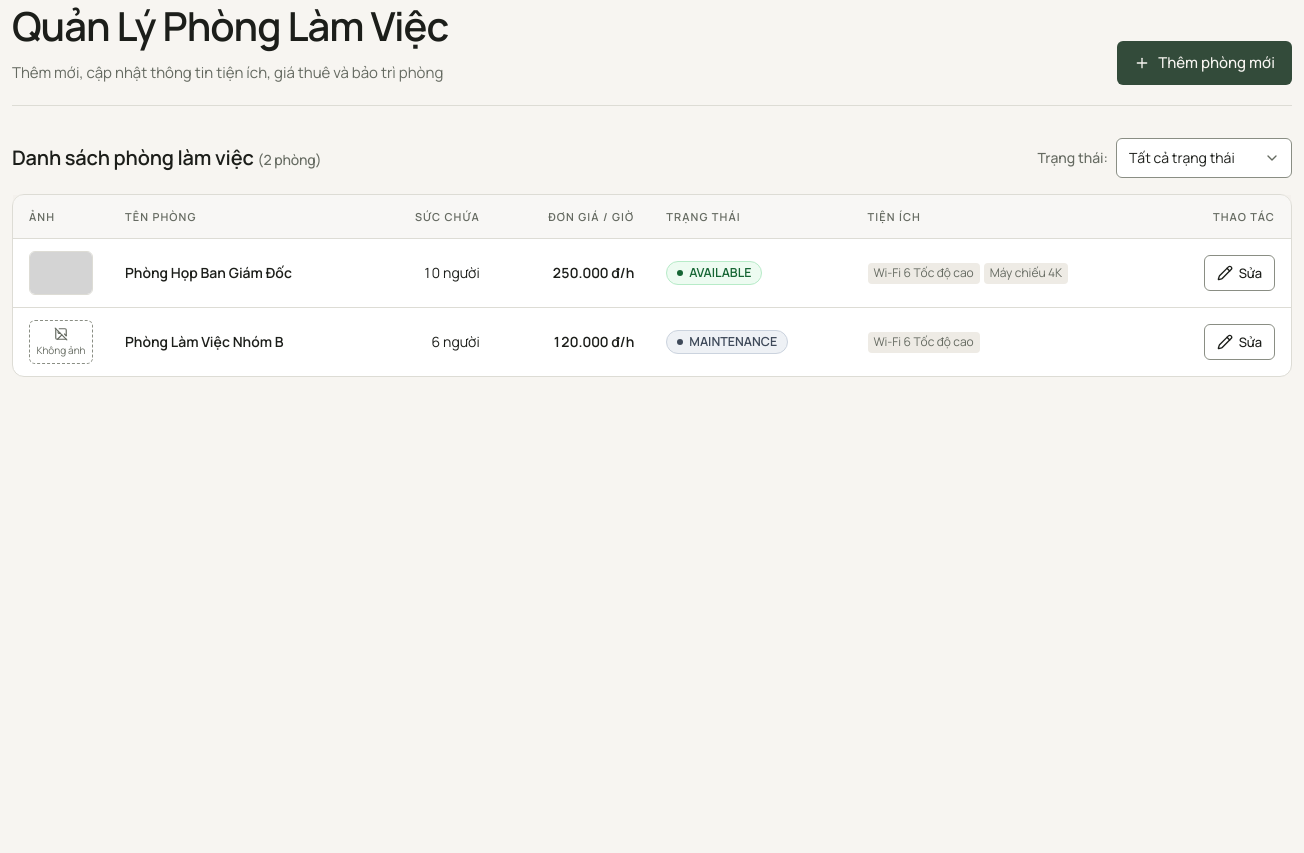
Test case: AdminPage - Room Management & Form › Create Room Flow & Image URL Rules › rejects pricePerHour <= 0 on client validation (AC1)
Expected: the text "Phòng Họp Ban Giám Đốc" is shown, [125,263,292,282]
Click the button with test id "admin-add-room-btn" at x=1205, y=63, box [1117,41,1292,85]
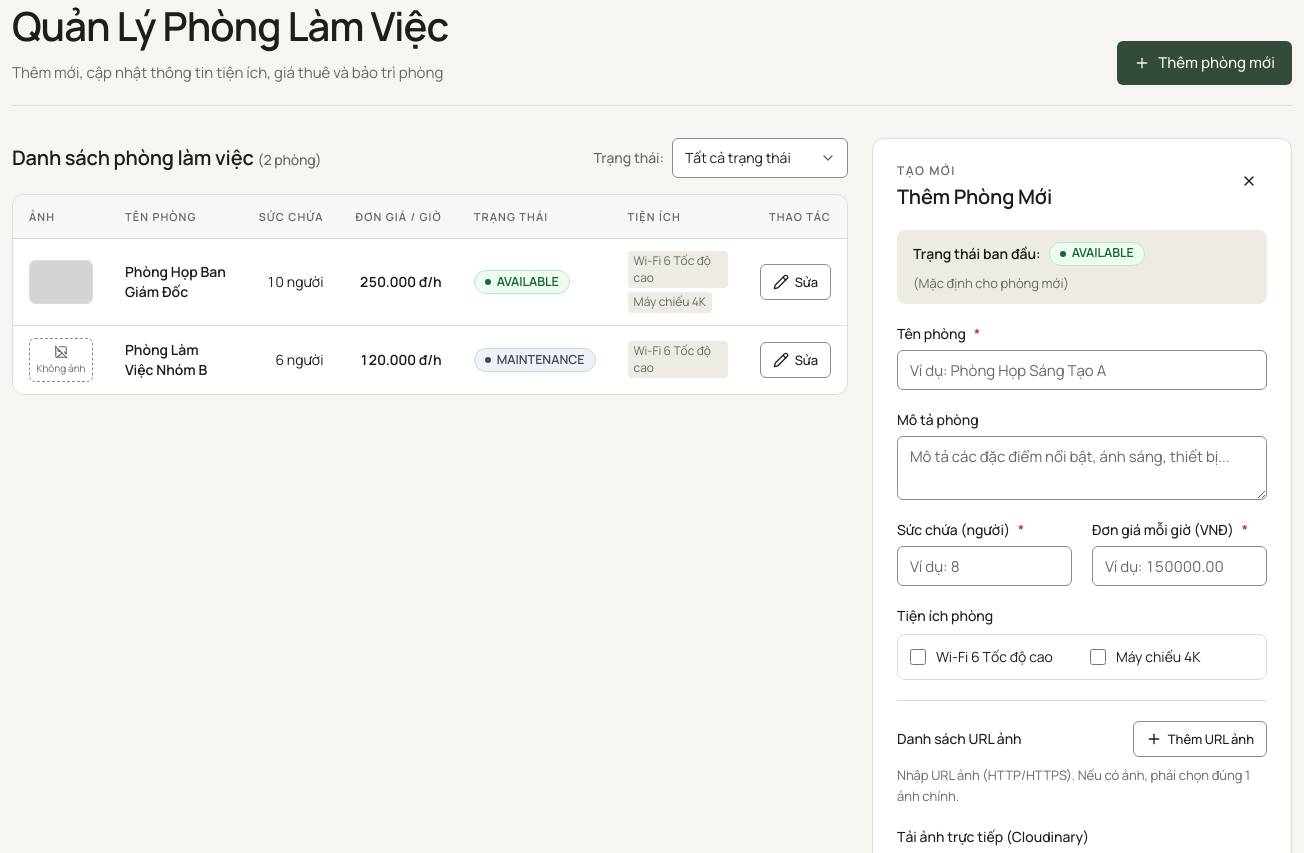
Type "Phòng Mới" into the field labelled "Tên phòng *" at x=1082, y=370, box [897,350,1267,390]
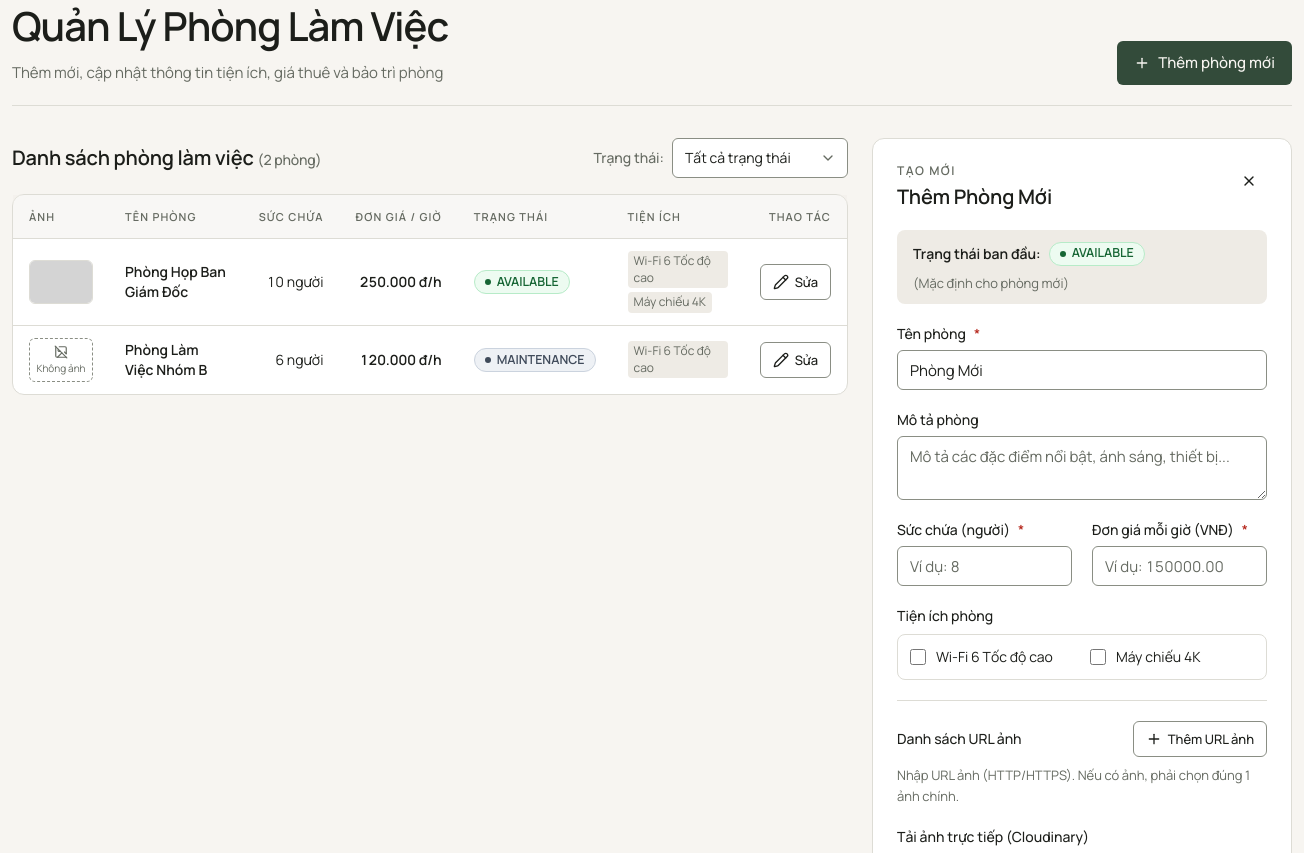
Type "4" into the number field labelled "Sức chứa (người) *" at x=984, y=566, box [897,546,1072,586]
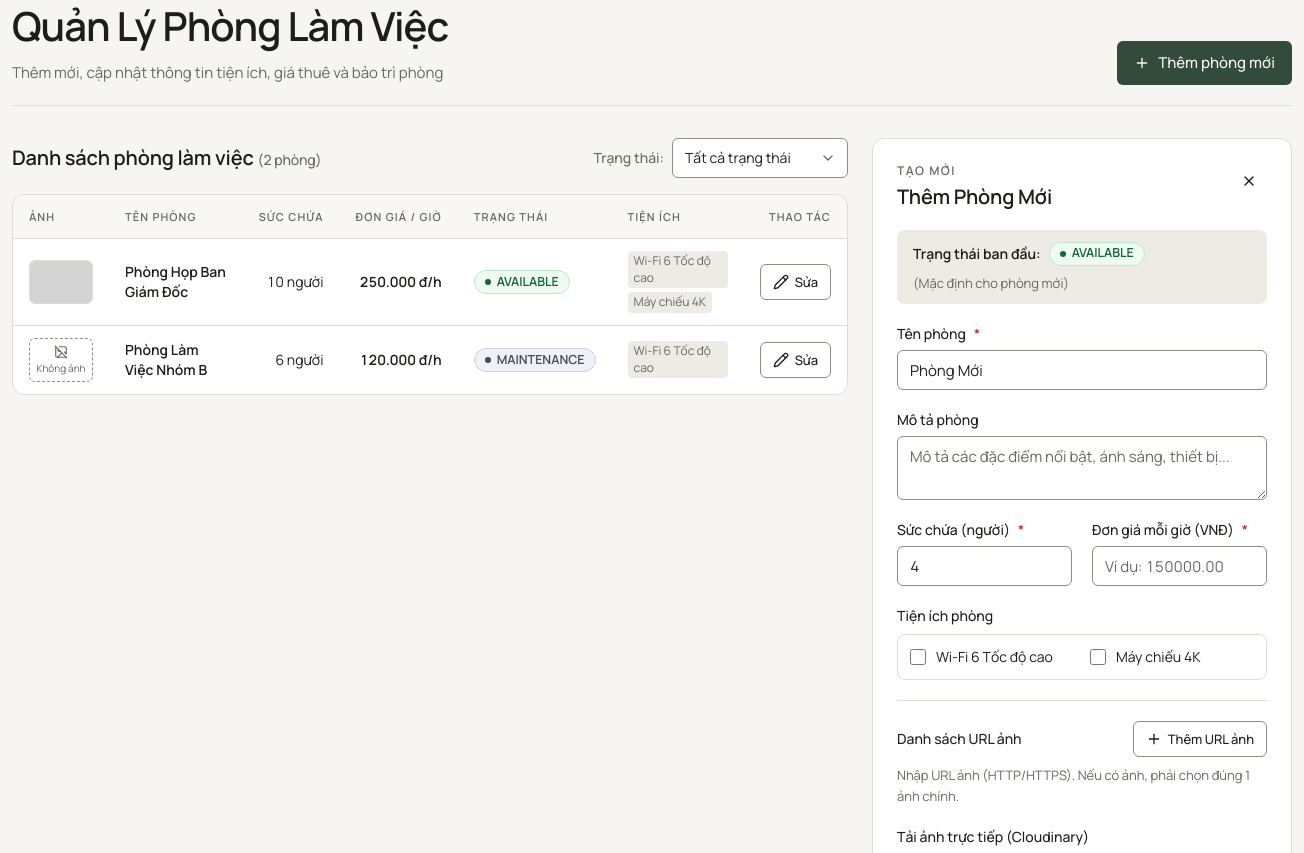
Type "0" into the field labelled "Đơn giá mỗi giờ (VNĐ) *" at x=1180, y=566, box [1092,546,1267,586]
(page scrolled)
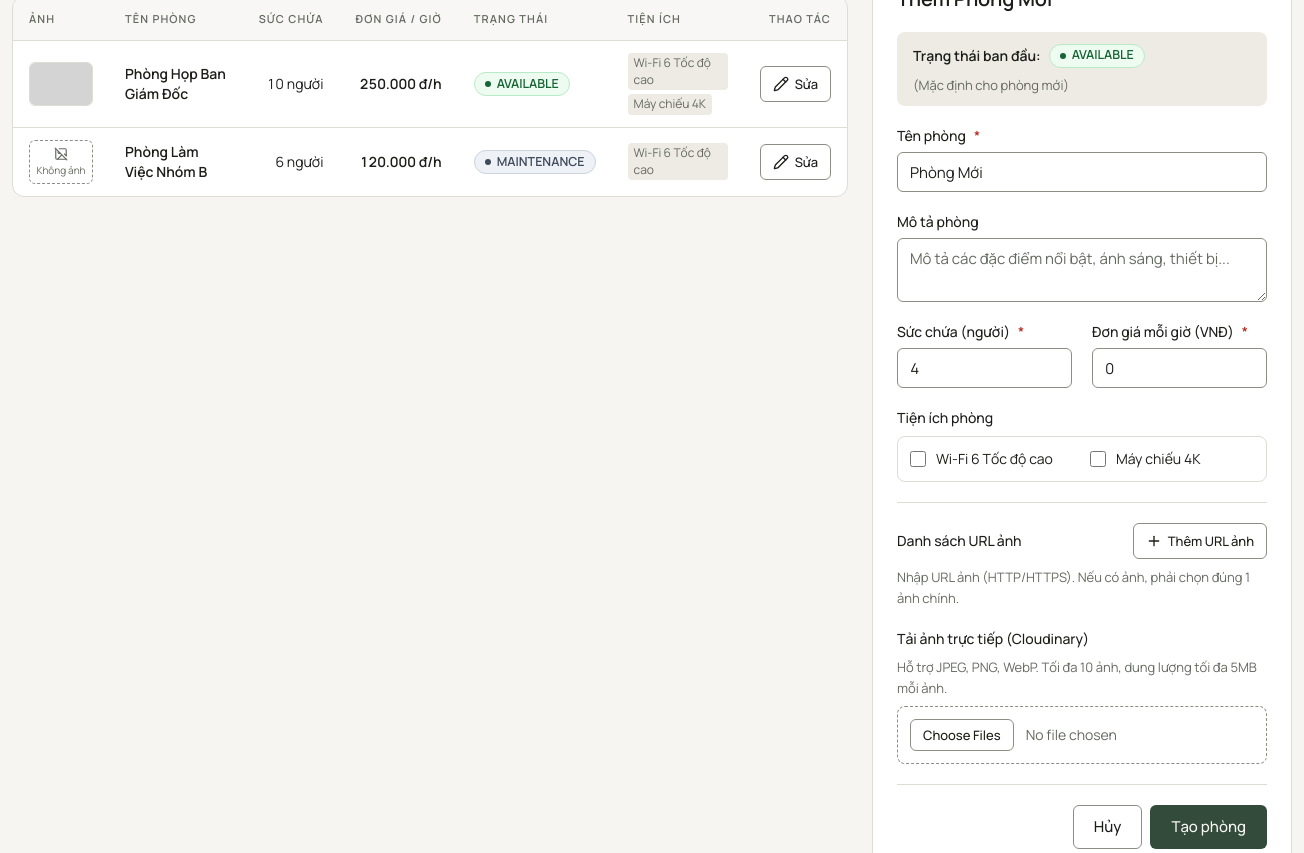
Click the button with test id "admin-submit-room-btn" at x=1209, y=827, box [1150,805,1267,849]
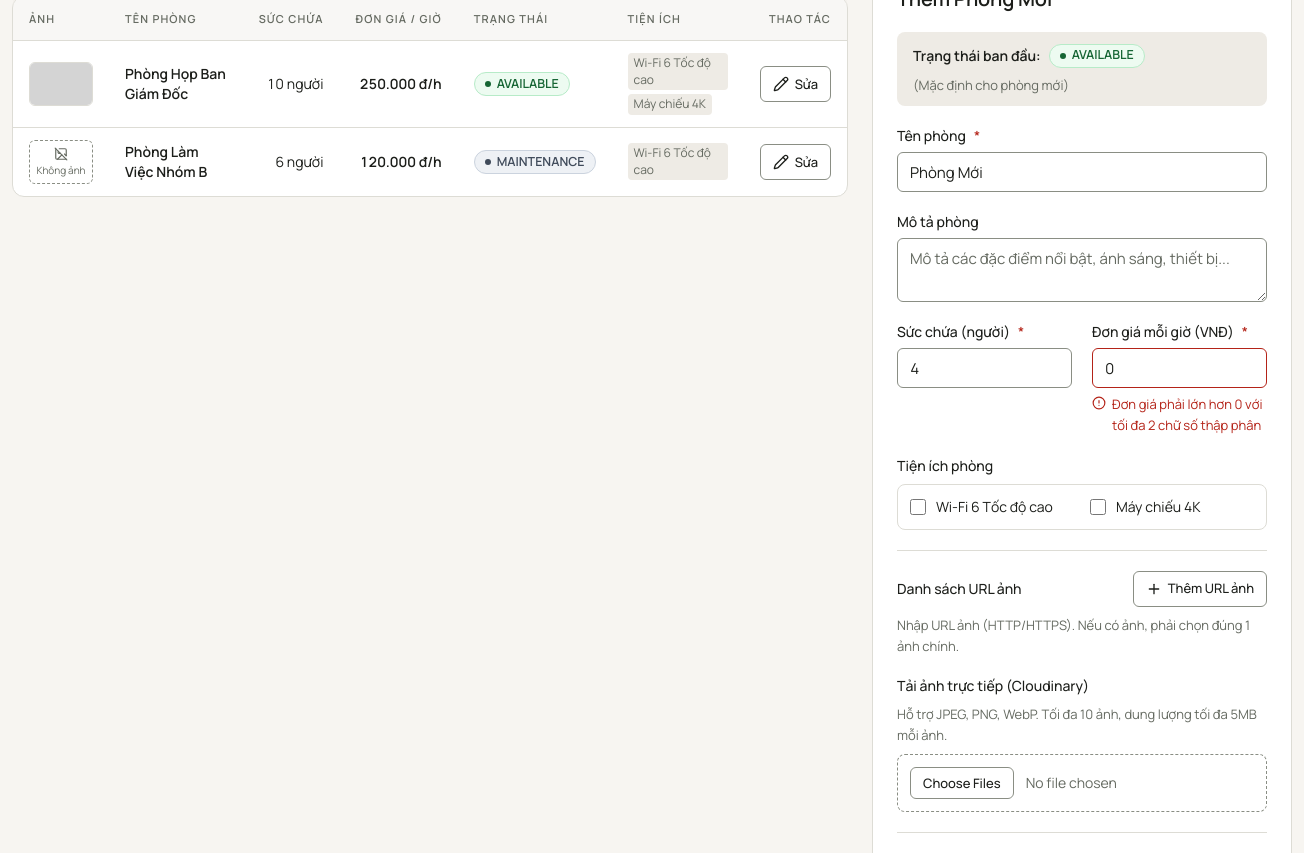
Expected: the message with test id "error-pricePerHour" reads "Đơn giá phải lớn hơn 0 với tối đa 2 chữ số thập phân", [1112,395,1263,434]
